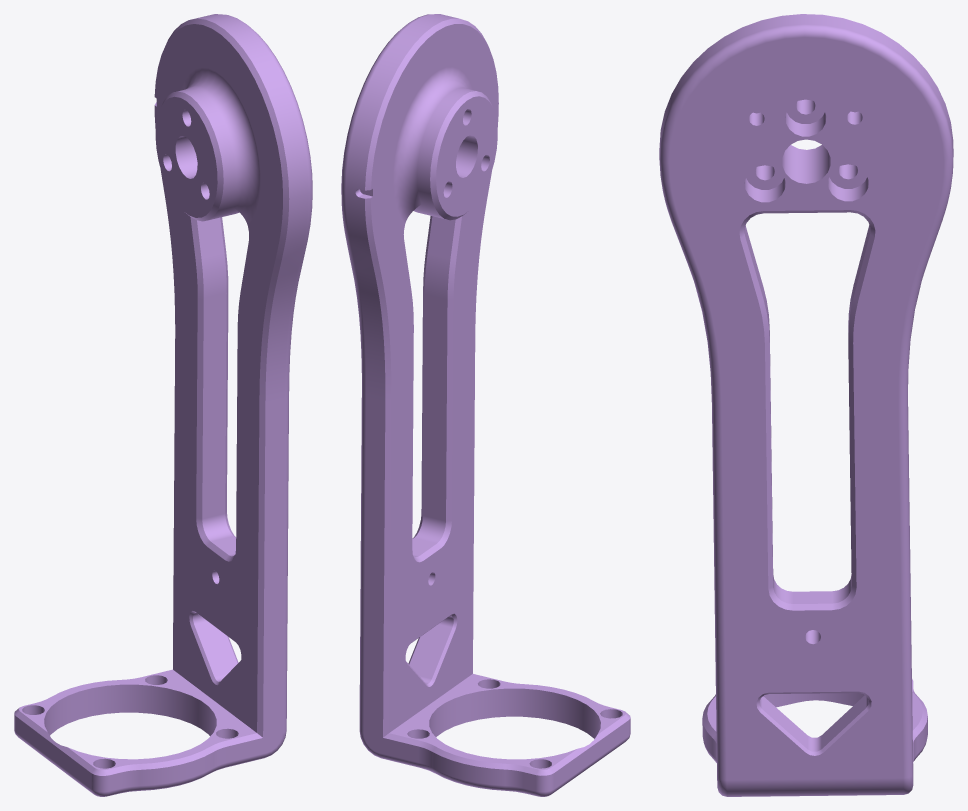
Rendered from Main_CaseJoint_6.001.dae.
The picture shows the model from 3 angles, left to right: view 1: azimuth 30°, elevation 25°; view 2: azimuth 150°, elevation 25°; view 3: azimuth 270°, elevation 25°; orthographic projection. The views are drawn at different scales.
Parts seen in each view (by area): view 1: Main_CaseJoint_6.000; view 2: Main_CaseJoint_6.000; view 3: Main_CaseJoint_6.000.
Boxes of the visible parts, x1=… form: Main_CaseJoint_6.000: x1=14, y1=14, x2=312, y2=796; Main_CaseJoint_6.000: x1=341, y1=14, x2=630, y2=796; Main_CaseJoint_6.000: x1=659, y1=14, x2=953, y2=796.
Bounding box in the file's own units: 0.025 × 0.03 × 0.0876.
